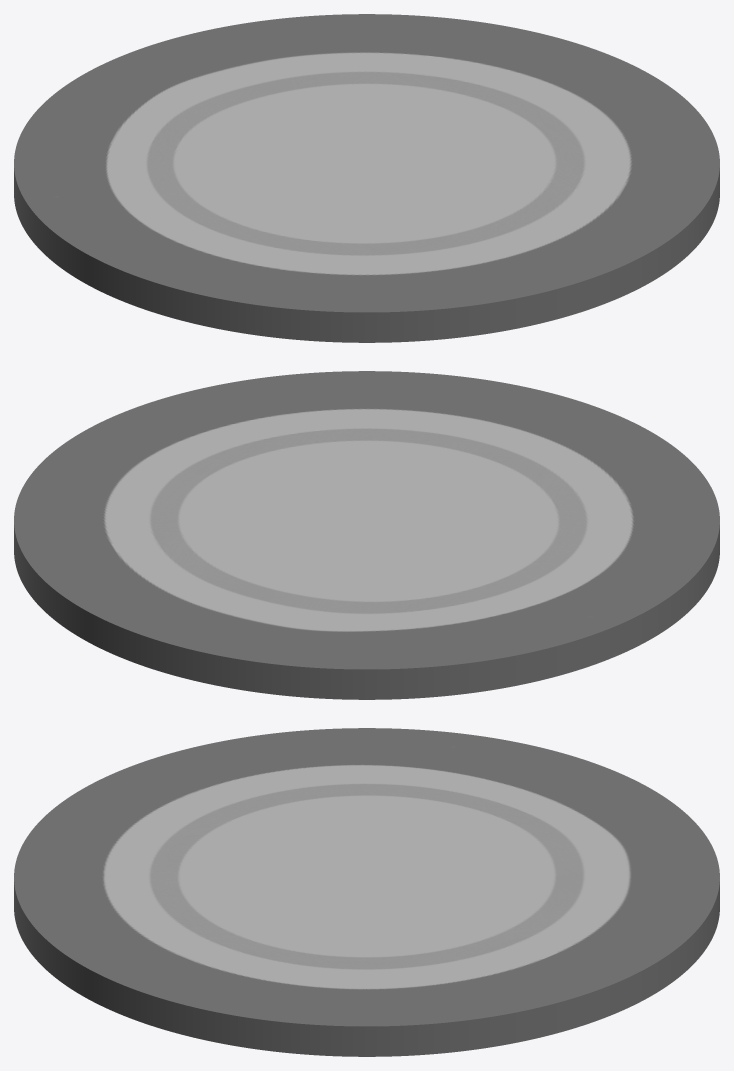
The model's file is Ship_1120_ttop.fbx.
The picture shows the model from 3 angles, top to bottom: view 1: azimuth 30°, elevation 25°; view 2: azimuth 150°, elevation 25°; view 3: azimuth 270°, elevation 25°; orthographic projection.
Parts seen in each view (by area): view 1: Circle.022; view 2: Circle.022; view 3: Circle.022.
Boxes of the visible parts, x1,y1,x2,y2 form: Circle.022: [14, 14, 719, 342]; Circle.022: [14, 371, 719, 699]; Circle.022: [14, 728, 719, 1056].
Size of the model in its own units: 7972 by 379 by 7972.
